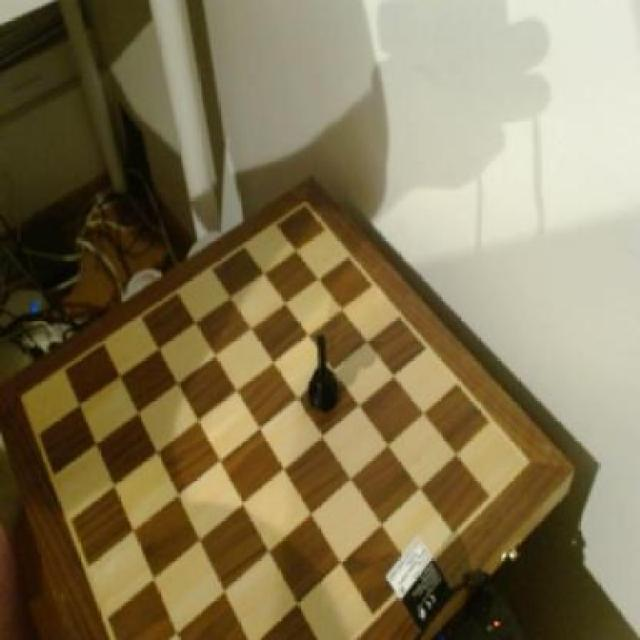black-king: (304, 332, 340, 416)
